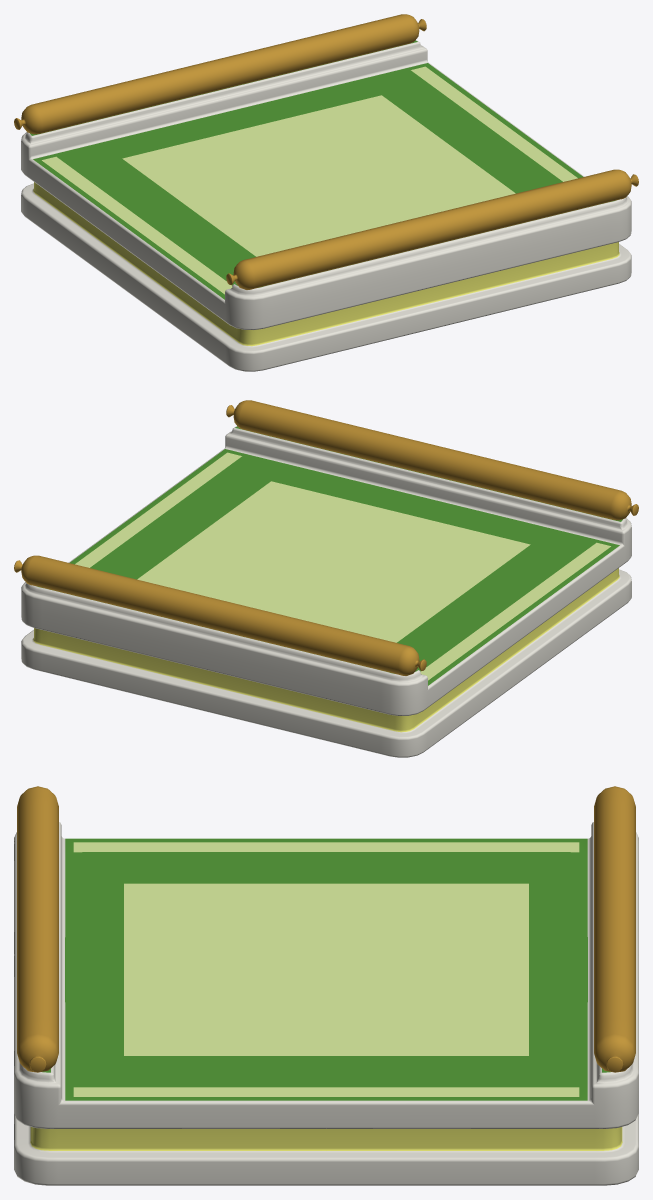
File: SM_Platform01.fbx
3 views of the same model, one above another, from view 1: azimuth 30°, elevation 25°; view 2: azimuth 150°, elevation 25°; view 3: azimuth 270°, elevation 25° (orthographic). The views are drawn at different scales.
Parts seen in each view (by area): view 1: SM_Start_Platform_01, SM_Start_Platform_01.001; view 2: SM_Start_Platform_01, SM_Start_Platform_01.001; view 3: SM_Start_Platform_01, SM_Start_Platform_01.001.
Part boxes in pixels (x1,y1,x2,y2): SM_Start_Platform_01: (21, 40, 631, 371); SM_Start_Platform_01.001: (14, 14, 638, 289); SM_Start_Platform_01: (21, 426, 631, 757); SM_Start_Platform_01.001: (14, 400, 638, 675); SM_Start_Platform_01: (14, 822, 638, 1185); SM_Start_Platform_01.001: (17, 786, 635, 1072).
Size of the model in its own units: 13.65 by 3.39 by 13.35.
